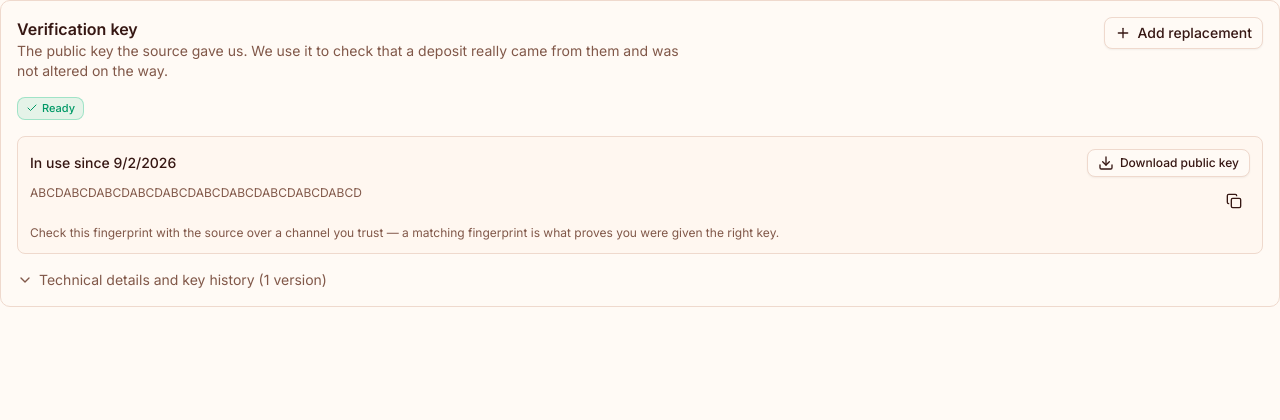
Test: KeyCard › leads with the status and keeps the version table behind technical details
Expected: the text "Ready" is shown, [17, 97, 84, 120]
Click the button "Technical details and key history (1 version)".
click(172, 280)  # box [17, 270, 327, 290]
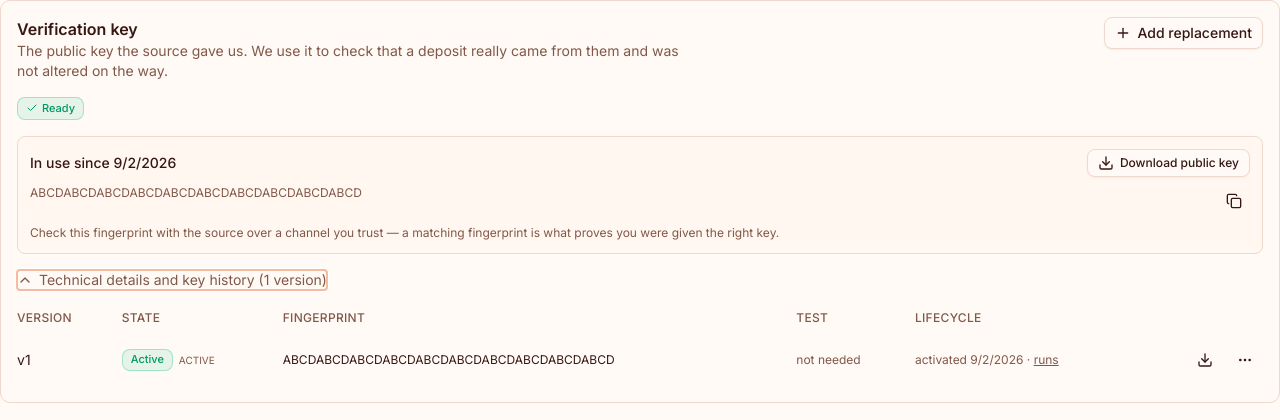
Expected: the table is shown, [17, 302, 1263, 386]
Expected: the text "ACTIVE" is shown, [179, 353, 215, 367]
